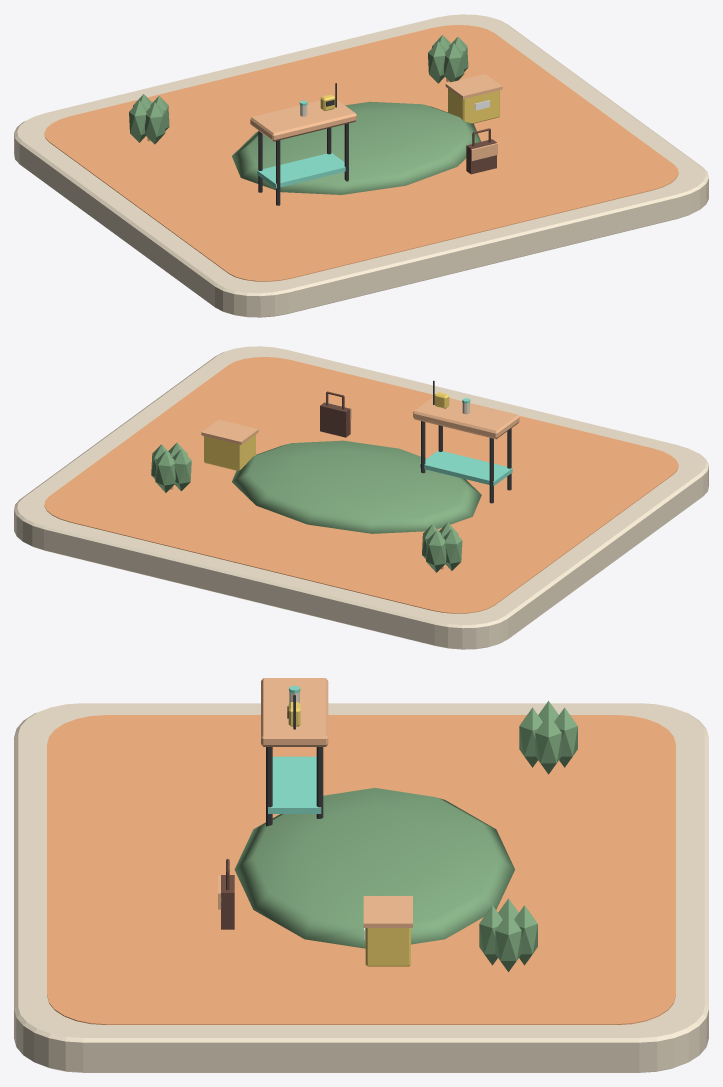
3 renders of one model, top to bottom at view 1: azimuth 30°, elevation 25°; view 2: azimuth 150°, elevation 25°; view 3: azimuth 270°, elevation 25°, orthographic. The views are drawn at different scales.
Parts seen in each view (by area): view 1: COM-02 Floor Surface, COM-01 Rounded Base Direct, Low terrain, Worktop, Lower shelf, Box, Bag, Lid, Leaf.003, Leaf.007, Leaf.002, Leaf.006; view 2: COM-02 Floor Surface, COM-01 Rounded Base Direct, Low terrain, Worktop, Lower shelf, Box, Bag, Lid, Leaf.001, Leaf.005, Leaf.006, Leaf.002; view 3: COM-02 Floor Surface, COM-01 Rounded Base Direct, Low terrain, Worktop, Lower shelf, Box, Lid, Leaf, Leaf.004, Bag, Leaf.007, Leaf.003 (+2 smaller).
Boxes of the visible parts, bbox=[...] form: COM-02 Floor Surface: bbox=[44, 25, 678, 281]; COM-01 Rounded Base Direct: bbox=[14, 14, 708, 317]; Low terrain: bbox=[232, 101, 481, 194]; Worktop: bbox=[250, 100, 356, 141]; Lower shelf: bbox=[257, 153, 349, 188]; Box: bbox=[448, 88, 499, 123]; Bag: bbox=[466, 128, 497, 174]; Lid: bbox=[445, 74, 502, 99]; Leaf.003: bbox=[145, 102, 165, 144]; Leaf.007: bbox=[444, 43, 464, 82]; Leaf.002: bbox=[129, 100, 148, 142]; Leaf.006: bbox=[428, 41, 446, 83]; COM-02 Floor Surface: bbox=[44, 357, 678, 613]; COM-01 Rounded Base Direct: bbox=[14, 346, 708, 649]; Low terrain: bbox=[232, 440, 481, 533]; Worktop: bbox=[413, 397, 519, 439]; Lower shelf: bbox=[420, 450, 512, 485]; Box: bbox=[204, 434, 255, 470]; Bag: bbox=[320, 391, 351, 437]; Lid: bbox=[201, 419, 258, 444]; Leaf.001: bbox=[426, 530, 446, 572]; Leaf.005: bbox=[155, 451, 175, 492]; Leaf.006: bbox=[172, 449, 191, 491]; Leaf.002: bbox=[443, 529, 462, 570]; COM-02 Floor Surface: bbox=[47, 715, 675, 1024]; COM-01 Rounded Base Direct: bbox=[14, 703, 708, 1072]; Low terrain: bbox=[234, 788, 514, 948]; Worktop: bbox=[261, 678, 328, 746]; Lower shelf: bbox=[268, 756, 321, 813]; Box: bbox=[365, 928, 410, 966]; Lid: bbox=[363, 896, 412, 927]; Leaf: bbox=[535, 714, 561, 774]; Leaf.004: bbox=[495, 912, 521, 971]; Bag: bbox=[218, 859, 234, 929]; Leaf.007: bbox=[479, 905, 502, 965]; Leaf.003: bbox=[519, 707, 542, 767].
Bounding box in the file's own units: 6 × 1.46 × 5.2.
Materials: 1 (1 with a texture image).
